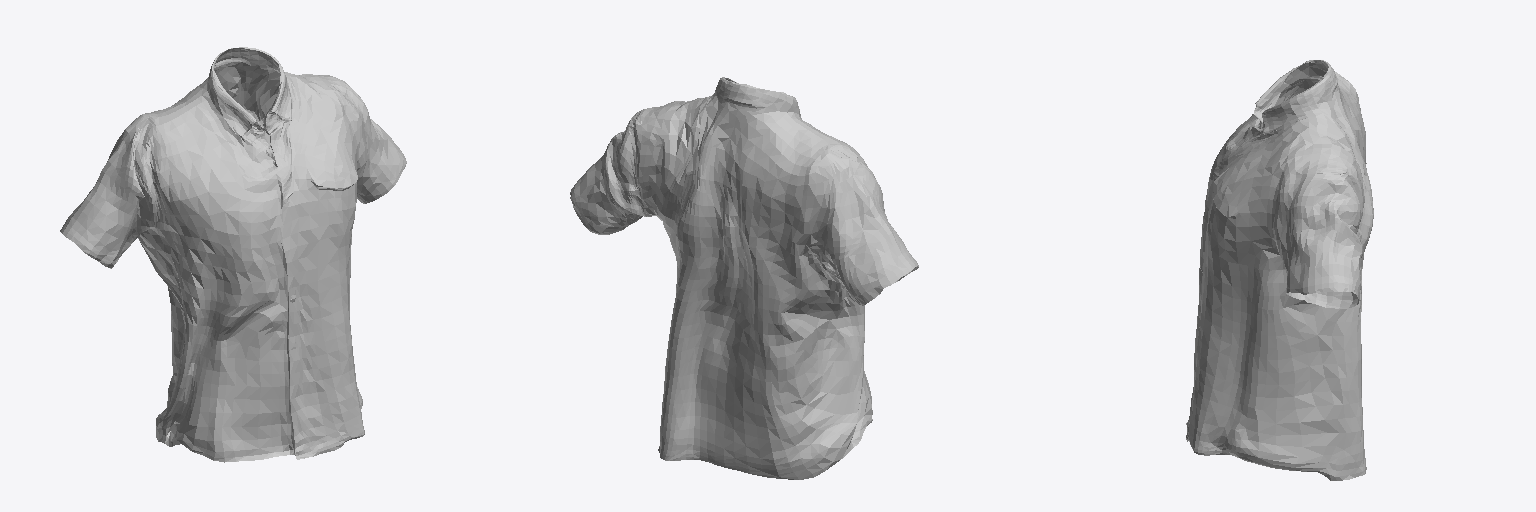
The model's file is wumao1.obj.
The picture shows the model from 3 angles: view 1: azimuth 30°, elevation 25°; view 2: azimuth 150°, elevation 25°; view 3: azimuth 270°, elevation 25°; orthographic projection.
Parts seen in each view (by area): view 1: Lino.001; view 2: Lino.001; view 3: Lino.001.
Part boxes in pixels (x1,y1,x2,y2): Lino.001: (60,47,406,462); Lino.001: (570,77,918,479); Lino.001: (1186,60,1373,480).
Bounding box in the file's own units: 66.94 × 72.25 × 32.38.